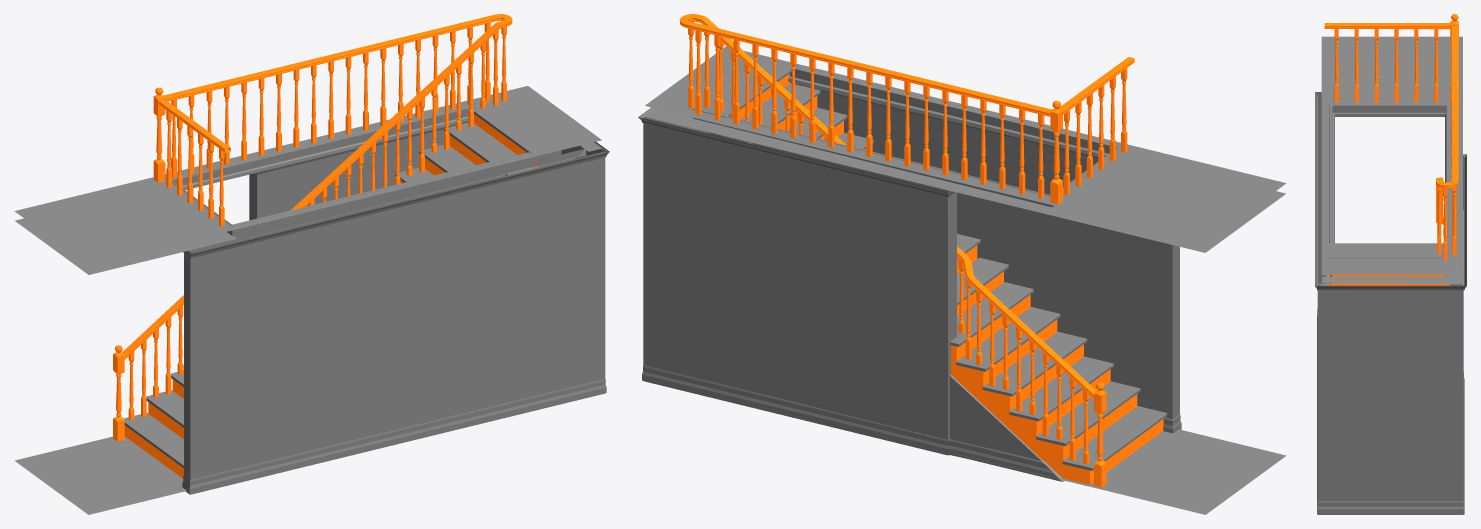
File: Stairs_A_1-2-Attic.fbx
3 renders of one model, left to right at view 1: azimuth 30°, elevation 25°; view 2: azimuth 150°, elevation 25°; view 3: azimuth 270°, elevation 25°, orthographic. The views are drawn at different scales.
Parts seen in each view (by area): view 1: Stairs_A_1-2-Attic; view 2: Stairs_A_1-2-Attic; view 3: Stairs_A_1-2-Attic.
Boxes of the visible parts, x1,y1,x2,y2 form: Stairs_A_1-2-Attic: [14, 14, 609, 514]; Stairs_A_1-2-Attic: [638, 14, 1286, 514]; Stairs_A_1-2-Attic: [1315, 14, 1466, 514].
Size of the model in its own units: 565 by 151 by 359.
